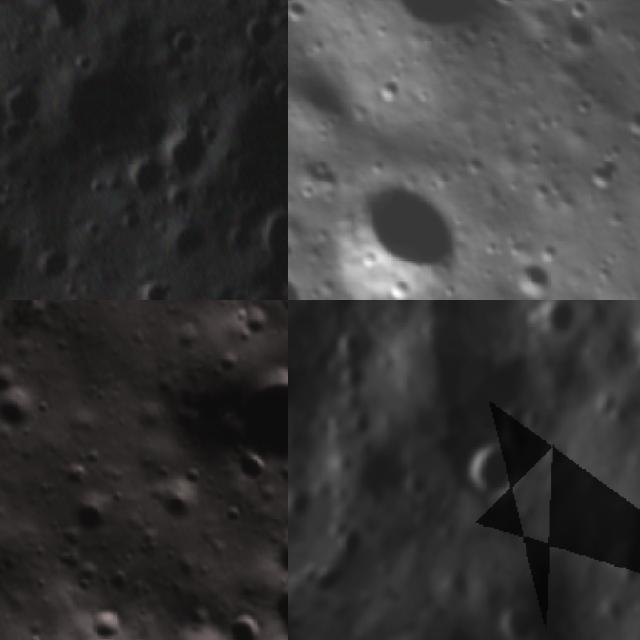crater: (304, 153, 492, 300), (334, 0, 525, 88), (212, 348, 288, 490), (288, 42, 366, 159), (48, 472, 127, 550), (546, 1, 620, 76), (144, 467, 217, 540), (454, 430, 524, 499), (155, 119, 218, 188), (8, 0, 114, 40), (483, 389, 549, 452), (498, 246, 566, 300), (0, 374, 48, 450), (152, 212, 218, 265), (0, 67, 57, 127), (112, 150, 170, 208), (0, 227, 42, 300), (140, 611, 245, 640), (252, 199, 288, 278), (256, 554, 288, 640), (327, 514, 380, 563), (238, 6, 287, 58), (162, 20, 214, 66), (491, 595, 543, 640), (604, 93, 640, 157), (238, 45, 283, 93), (80, 600, 134, 640), (35, 243, 78, 289), (216, 218, 256, 260), (537, 300, 580, 338), (322, 321, 363, 360), (0, 116, 37, 152), (314, 404, 351, 439), (131, 273, 178, 300), (584, 524, 620, 558), (243, 283, 288, 300), (334, 362, 362, 388)
